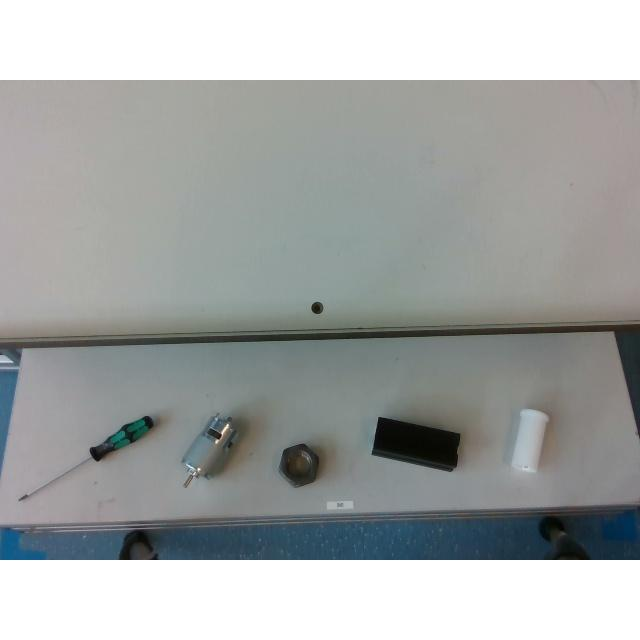M30: (278, 442, 318, 486)
Motor2: (182, 413, 236, 487)
S40_40_B: (371, 417, 459, 471)
Screwdriver: (18, 416, 154, 500)
Spacer: (511, 408, 549, 472)
